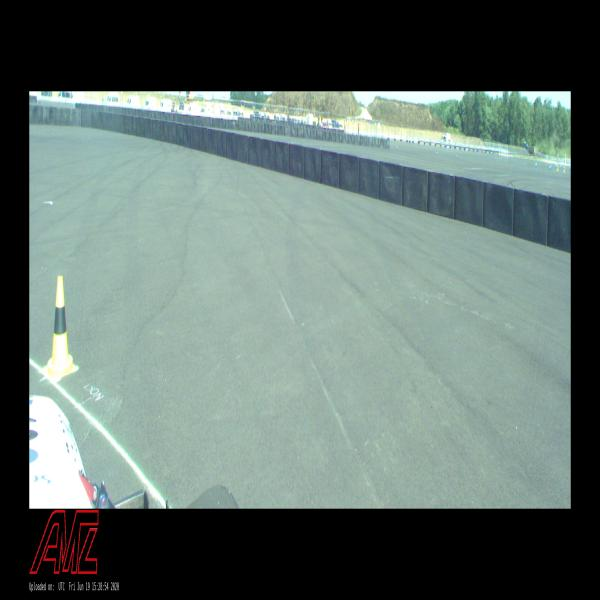yellow_cone: (44, 276, 76, 382)
